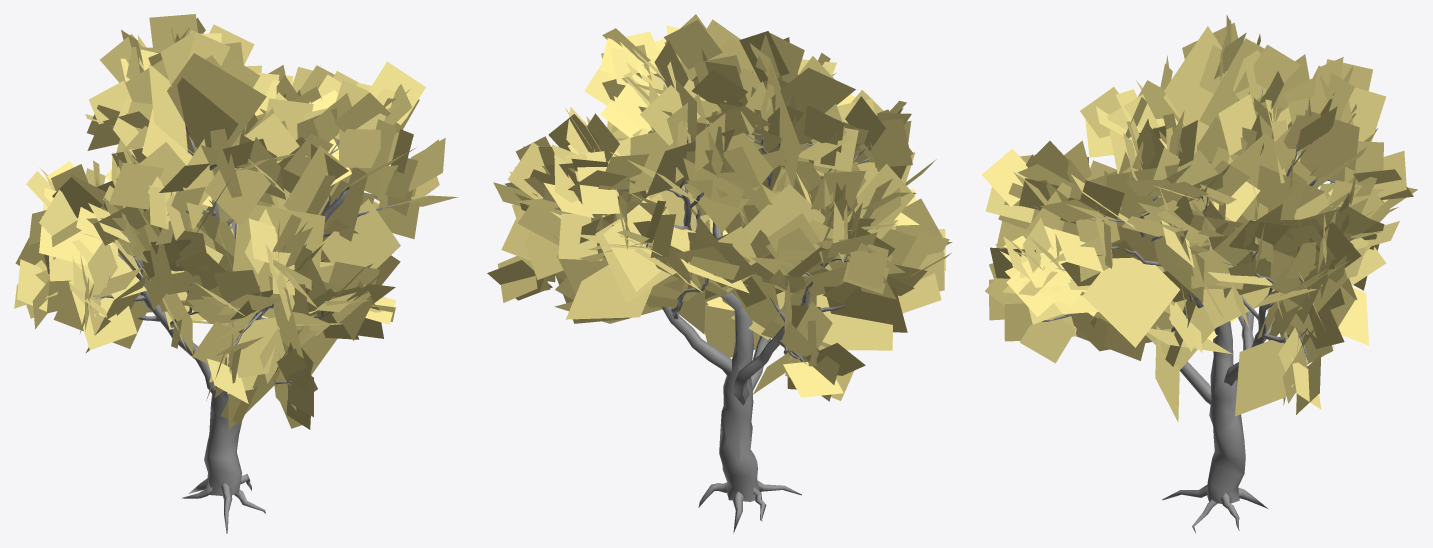
The model's file is deadtree_01_LOD1.FBX.
The picture shows the model from 3 angles, left to right: view 1: azimuth 30°, elevation 25°; view 2: azimuth 150°, elevation 25°; view 3: azimuth 270°, elevation 25°; orthographic projection. The views are drawn at different scales.
Parts seen in each view (by area): view 1: deadtree_01_LOD1; view 2: deadtree_01_LOD1; view 3: deadtree_01_LOD1.
Boxes of the visible parts, x1=… form: deadtree_01_LOD1: x1=14, y1=14, x2=458, y2=533; deadtree_01_LOD1: x1=487, y1=14, x2=952, y2=533; deadtree_01_LOD1: x1=982, y1=15, x2=1417, y2=533.
Size of the model in its own units: 20.22 by 24.54 by 19.91.
